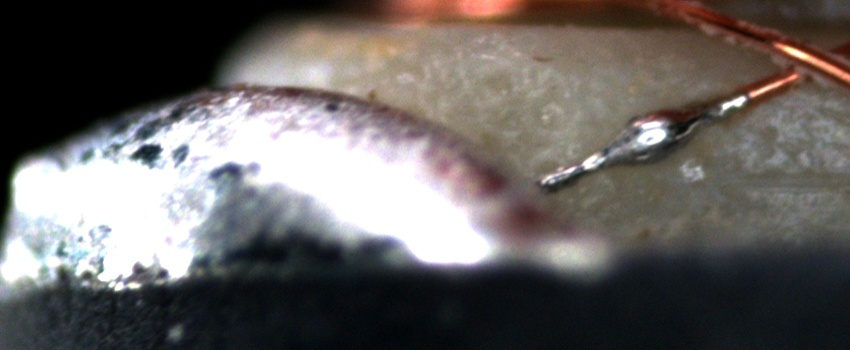CL: (753, 29, 843, 94)
DL: (692, 158, 850, 201)
TB: (611, 103, 698, 170)
TS: (538, 93, 748, 189)
TTCW: (531, 66, 800, 193)
